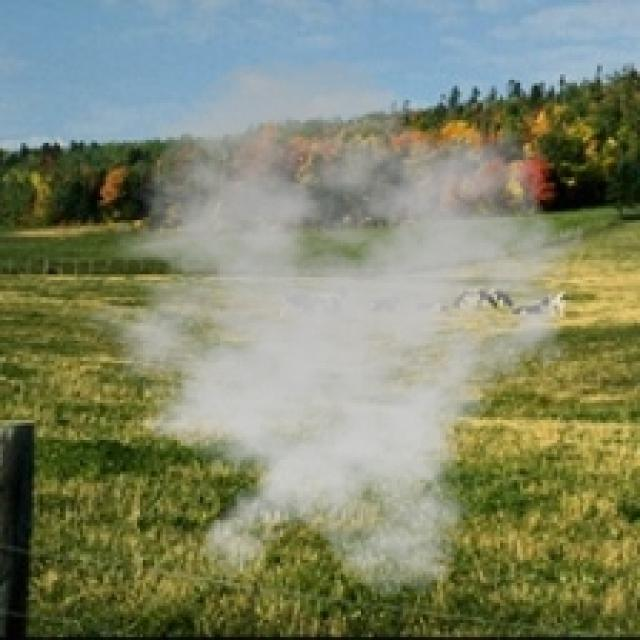smoke: (54, 54, 603, 600)
